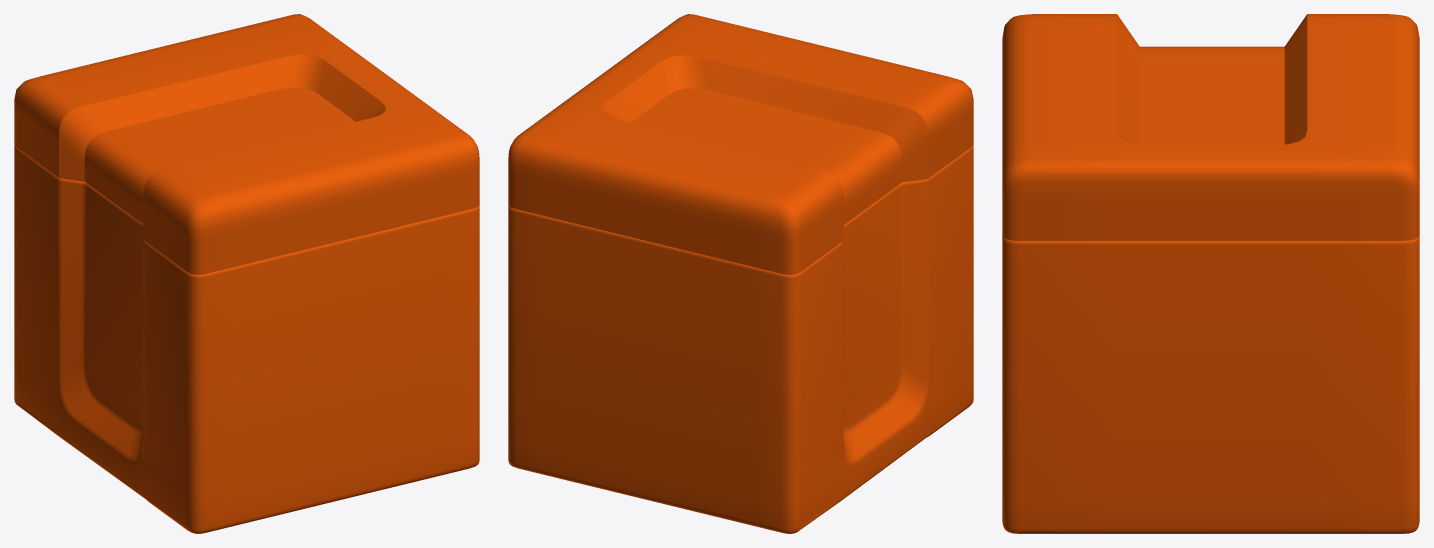
The model's file is Prop004.fbx.
The picture shows the model from 3 angles, left to right: view 1: azimuth 30°, elevation 25°; view 2: azimuth 150°, elevation 25°; view 3: azimuth 270°, elevation 25°; orthographic projection. The views are drawn at different scales.
Parts seen in each view (by area): view 1: P003_1, P003_002; view 2: P003_1, P003_002; view 3: P003_1, P003_002.
Part boxes in pixels (<box>): P003_1: <box>14,145,479,533</box>; P003_002: <box>14,14,479,274</box>; P003_1: <box>508,145,973,533</box>; P003_002: <box>508,14,973,274</box>; P003_1: <box>1002,234,1419,533</box>; P003_002: <box>1002,14,1419,240</box>.
Size of the model in its own units: 56.85 by 61.14 by 62.38.
